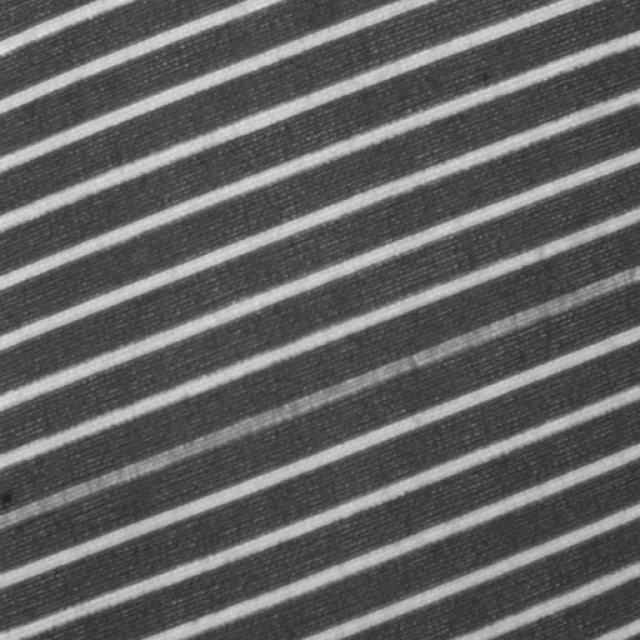Stain-Defect: (0, 266, 639, 530)
